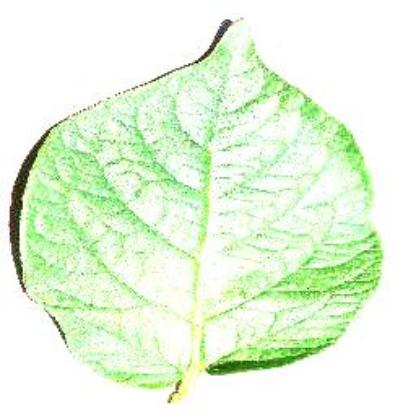Healthy-plant: (8, 19, 396, 404)
